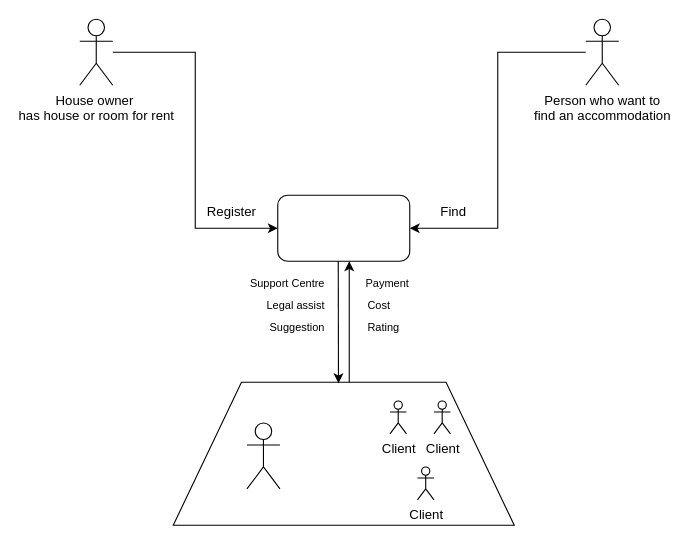
Image size: 690x545. Some labels were removed from this diagram. Here are the shapes that lost their labels. From the top down, the box of each, then its label:
(277, 194, 410, 261): FAS
(246, 422, 280, 489): Registered House Owner
